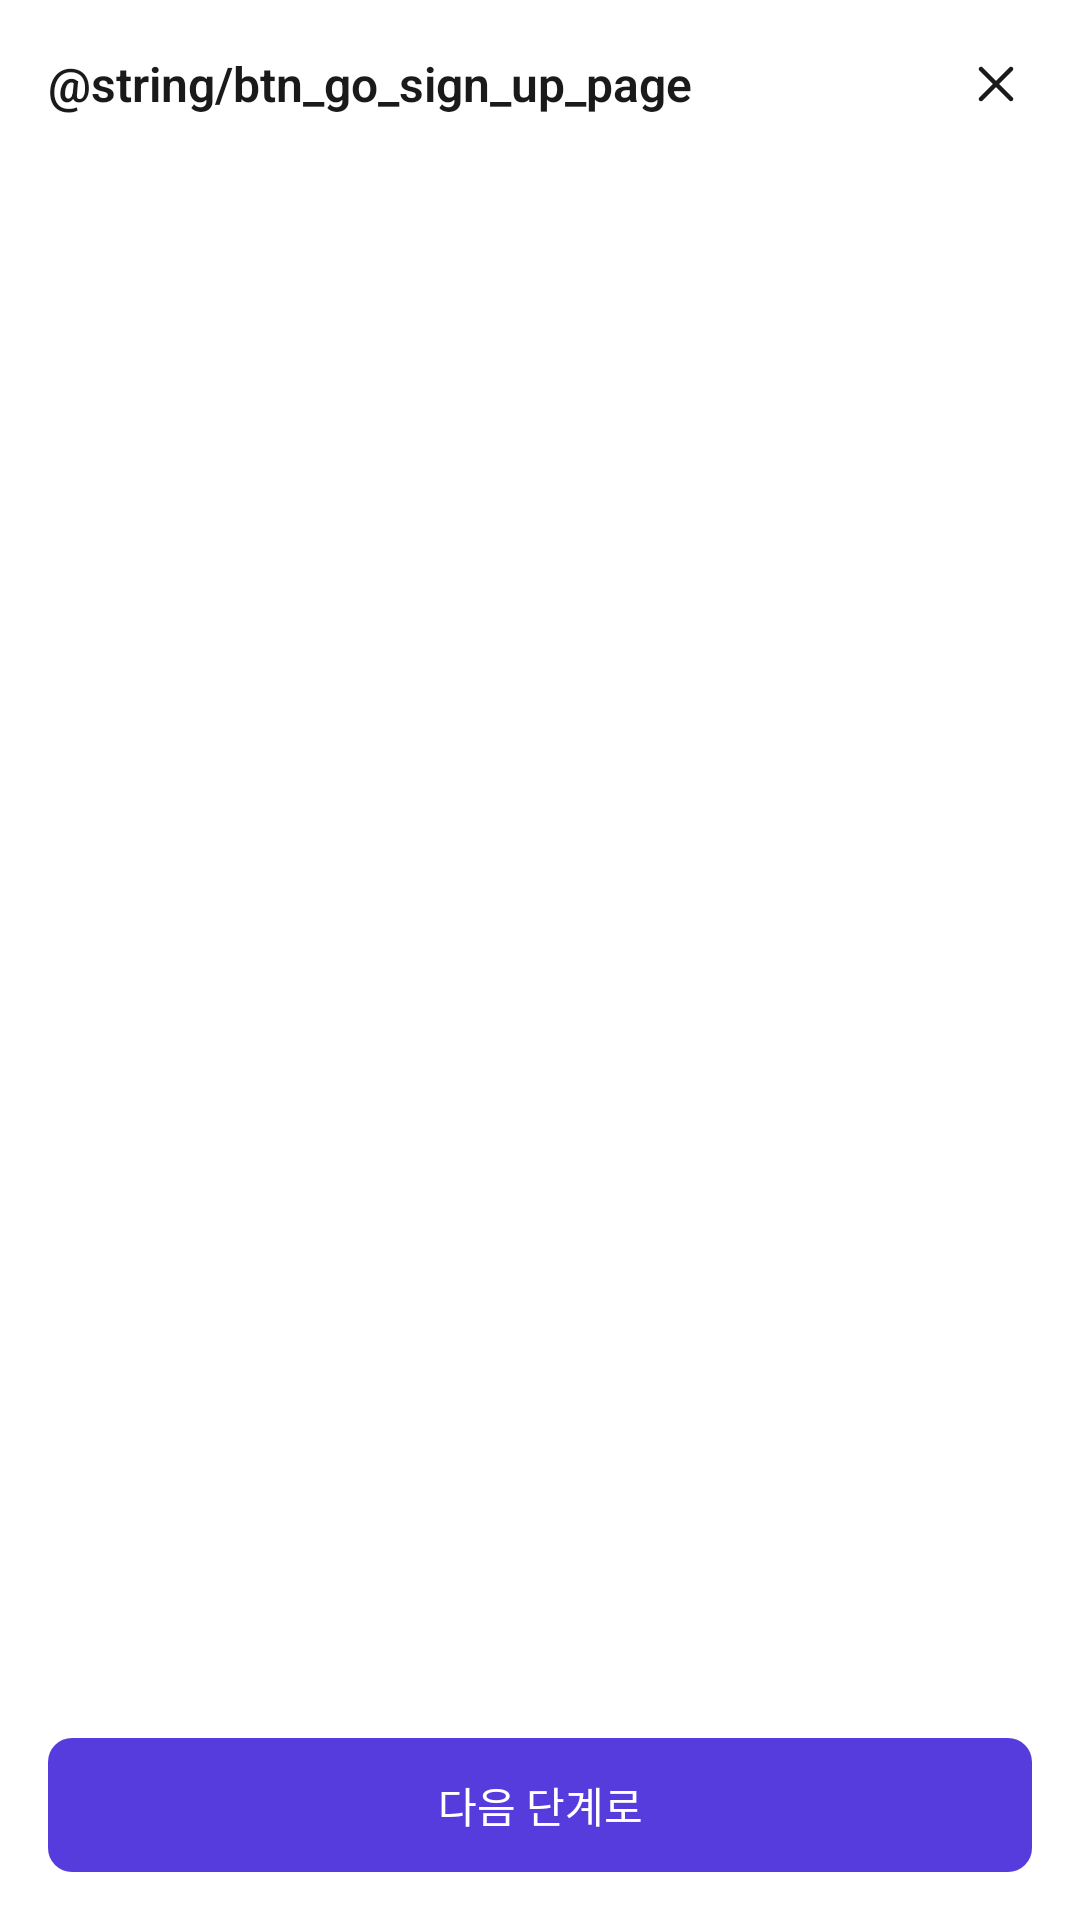

Where to tap for icons on this 1080x1920 app screen, as (x,y):
cancel: (996,84)
